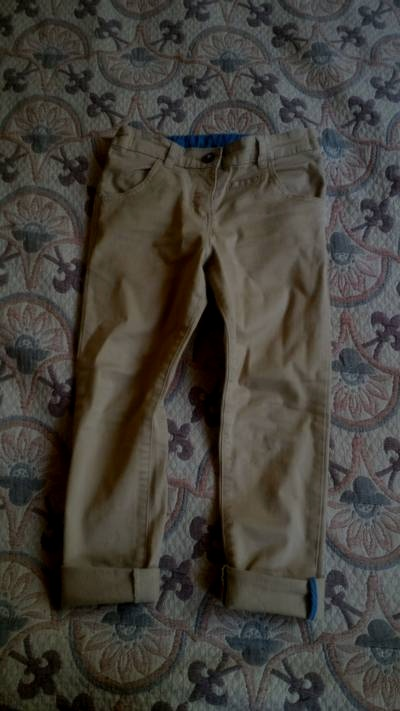Pants: (34, 76, 356, 636)
